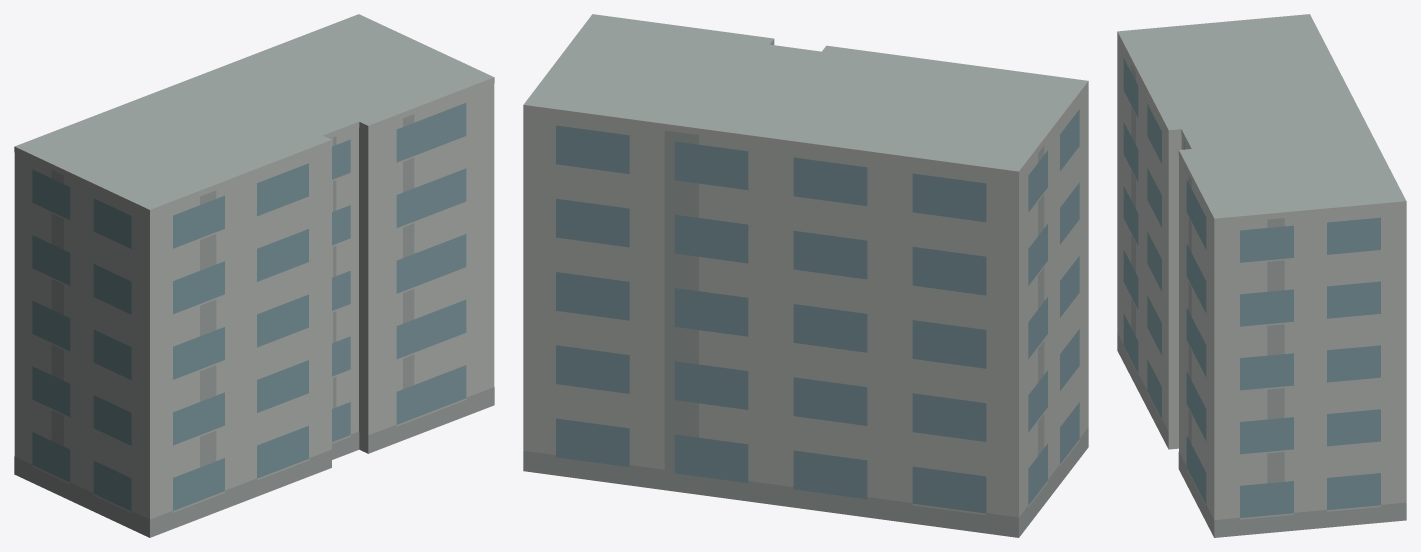
Rendered from survey-upis-32825236.glb.
3 views of the same model, side by side, from view 1: azimuth 30°, elevation 25°; view 2: azimuth 150°, elevation 25°; view 3: azimuth 270°, elevation 25° (orthographic). The views are drawn at different scales.
Visible parts, largest first — view 1: survey-upis-32825236.tmp; view 2: survey-upis-32825236.tmp; view 3: survey-upis-32825236.tmp.
Boxes of the visible parts, x1,y1,x2,y2 form: survey-upis-32825236.tmp: (14,14,494,537); survey-upis-32825236.tmp: (523,14,1088,537); survey-upis-32825236.tmp: (1117,14,1406,537).
Bounding box in the file's own units: 18.57 × 13.5 × 11.09.
